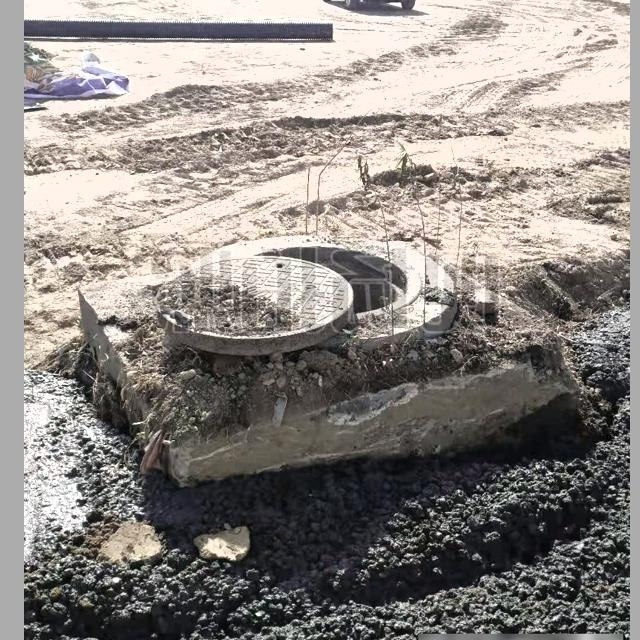uncovered: (157, 234, 459, 357)
